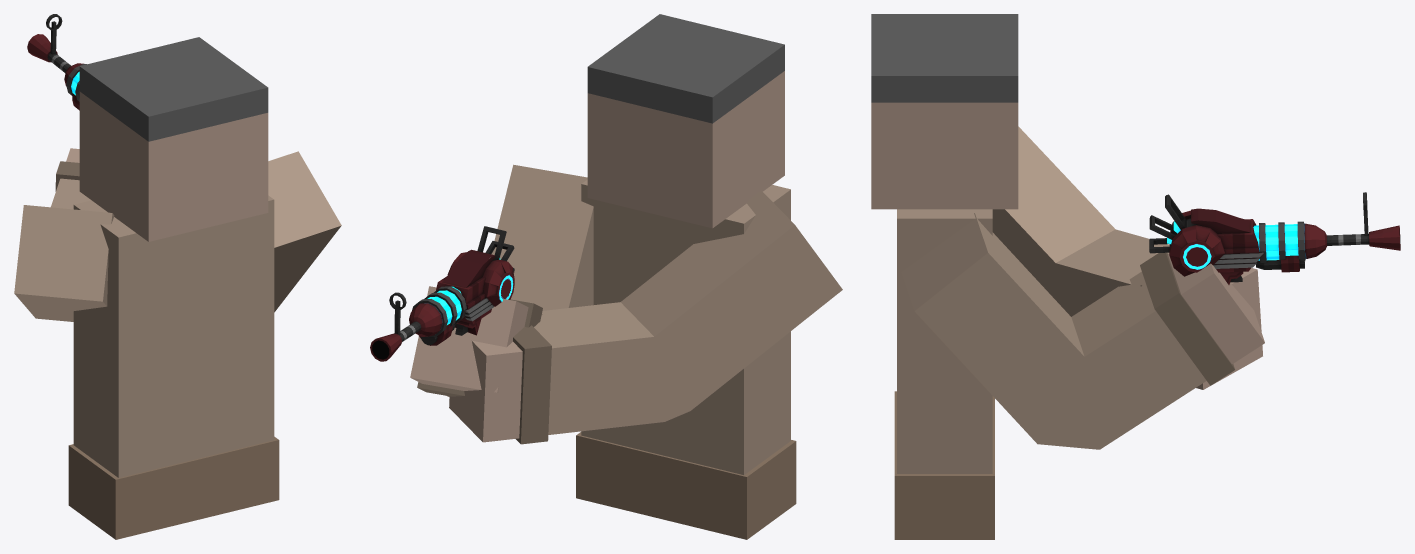
The model's file is Alien Blaster.gltf.
3 renders of one model, left to right at view 1: azimuth 30°, elevation 25°; view 2: azimuth 150°, elevation 25°; view 3: azimuth 270°, elevation 25°, orthographic. The views are drawn at different scales.
Bounding box in the file's own units: 5.15 × 6.8 × 7.21.
Materials: 2 (1 with a texture image).
